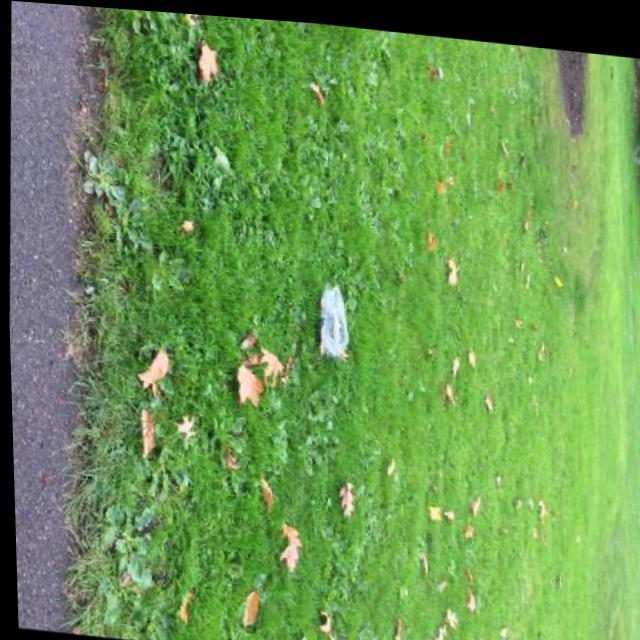plastic: (316, 285, 351, 360)
